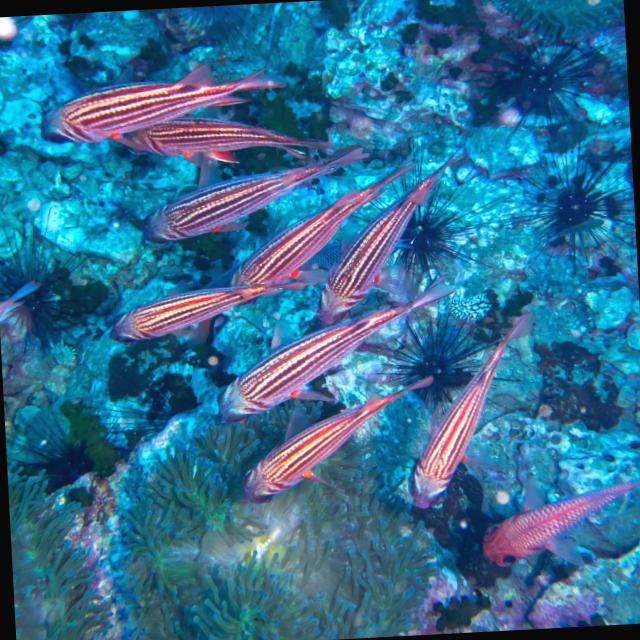Asker Baligi: (37, 41, 296, 170), (394, 306, 550, 513), (96, 263, 306, 360), (475, 454, 640, 575)
